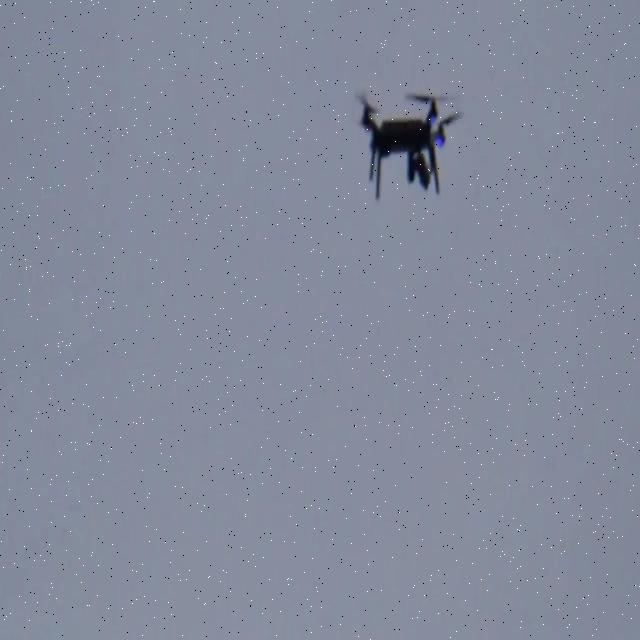UAV: (354, 91, 464, 201)
